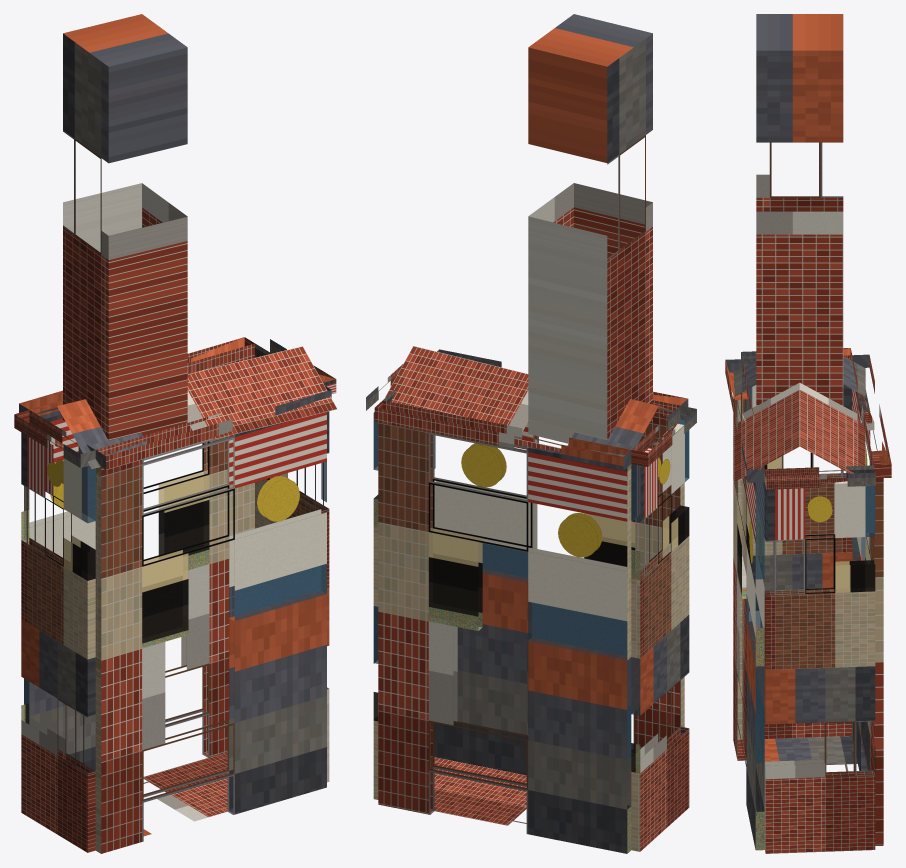
The picture shows the model from 3 angles, left to right: view 1: azimuth 30°, elevation 25°; view 2: azimuth 150°, elevation 25°; view 3: azimuth 270°, elevation 25°; orthographic projection. The views are drawn at different scales.
Parts seen in each view (by area): view 1: 1106967112__wall_0_xb, 1106967112__chimney_0_xb, 1106967112__wall_1_xb, 1106967112__wall_2_xb, 1106967112_roof_-1_xb, 1106967112__wall_0_xf, 1106967112__wall_2_xf, 1106967112__base, 1106967112__cornice_0, 1106967112__cornice_2, 1106967112__wall_1_xf, 1106967112__wall_3_xb (+1 smaller); view 2: 1106967112__wall_2_xb, 1106967112__chimney_0_xb, 1106967112__wall_0_xb, 1106967112__wall_1_xb, 1106967112_roof_1_xb, 1106967112__wall_2_xf, 1106967112__cornice_2, 1106967112__base, 1106967112__wall_0_xf, 1106967112__wall_1_xf, 1106967112__wall_3_xb, 1106967112__cornice_1 (+2 smaller); view 3: 1106967112__wall_3_xb, 1106967112__chimney_0_xb, 1106967112__wall_0_xb, 1106967112__wall_1_xb, 1106967112__wall_2_xb, 1106967112_roof_1_xb, 1106967112_roof_-1_xb, 1106967112__wall_0_xf, 1106967112__base, 1106967112__cornice_3, 1106967112__wall_3_xf, 1106967112__cornice_2 (+1 smaller).
Part boxes in pixels (x1=…): 1106967112__wall_0_xb: x1=95, y1=412, x2=326, y2=853; 1106967112__chimney_0_xb: x1=63, y1=14, x2=187, y2=440; 1106967112__wall_1_xb: x1=21, y1=432, x2=95, y2=852; 1106967112__wall_2_xb: x1=24, y1=357, x2=254, y2=770; 1106967112_roof_-1_xb: x1=57, y1=346, x2=337, y2=468; 1106967112__wall_0_xf: x1=96, y1=461, x2=326, y2=668; 1106967112__wall_2_xf: x1=24, y1=472, x2=208, y2=704; 1106967112__base: x1=143, y1=752, x2=227, y2=836; 1106967112__cornice_0: x1=95, y1=386, x2=331, y2=469; 1106967112__cornice_2: x1=19, y1=337, x2=254, y2=418; 1106967112__wall_1_xf: x1=22, y1=466, x2=95, y2=723; 1106967112__wall_3_xb: x1=255, y1=357, x2=329, y2=782; 1106967112__wall_2_xb: x1=378, y1=422, x2=631, y2=853; 1106967112__chimney_0_xb: x1=528, y1=14, x2=652, y2=443; 1106967112__wall_0_xb: x1=433, y1=414, x2=684, y2=775; 1106967112__wall_1_xb: x1=631, y1=419, x2=689, y2=851; 1106967112_roof_1_xb: x1=384, y1=346, x2=658, y2=456; 1106967112__wall_2_xf: x1=429, y1=465, x2=630, y2=852; 1106967112__cornice_2: x1=374, y1=400, x2=631, y2=470; 1106967112__base: x1=434, y1=757, x2=526, y2=825; 1106967112__wall_0_xf: x1=435, y1=436, x2=634, y2=581; 1106967112__wall_1_xf: x1=631, y1=420, x2=688, y2=772; 1106967112__wall_3_xb: x1=373, y1=412, x2=378, y2=799; 1106967112__cornice_1: x1=631, y1=405, x2=696, y2=466; 1106967112__wall_3_xb: x1=764, y1=481, x2=875, y2=853; 1106967112__chimney_0_xb: x1=756, y1=14, x2=843, y2=405; 1106967112__wall_0_xb: x1=733, y1=372, x2=764, y2=850; 1106967112__wall_1_xb: x1=746, y1=385, x2=852, y2=739; 1106967112__wall_2_xb: x1=852, y1=390, x2=883, y2=845; 1106967112_roof_1_xb: x1=799, y1=356, x2=865, y2=473; 1106967112_roof_-1_xb: x1=734, y1=356, x2=799, y2=481; 1106967112__wall_0_xf: x1=737, y1=482, x2=764, y2=849; 1106967112__base: x1=764, y1=736, x2=857, y2=771; 1106967112__cornice_3: x1=764, y1=465, x2=875, y2=489; 1106967112__wall_3_xf: x1=835, y1=486, x2=874, y2=770; 1106967112__cornice_2: x1=852, y1=354, x2=891, y2=478.
Size of the model in its own units: 0.5254 by 1.4 by 0.2872.
1 material, 1 textured.
